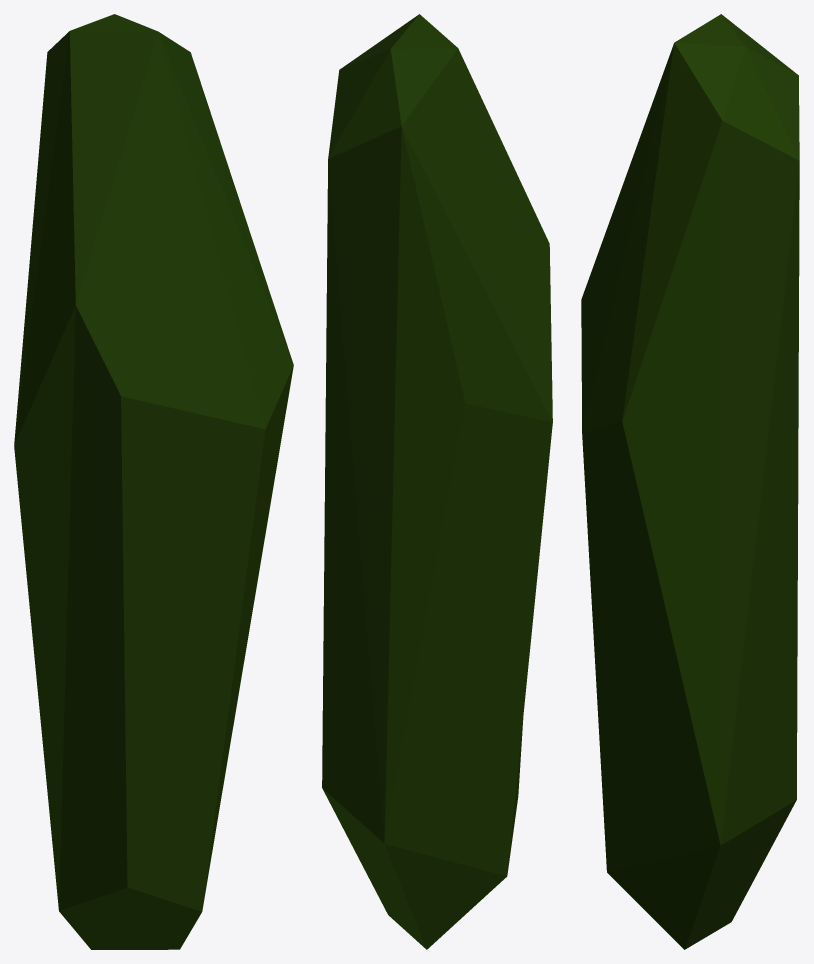
Rendered from Cave_Lair_Vegetation_Swamp_Tree_Foliage_Willow_01.fbx.
3 views of the same model, side by side, from view 1: azimuth 30°, elevation 25°; view 2: azimuth 150°, elevation 25°; view 3: azimuth 270°, elevation 25° (orthographic). The views are drawn at different scales.
Parts seen in each view (by area): view 1: Cave_Lair_Vegetation_Swamp_Tree_Foliage_Willow_01; view 2: Cave_Lair_Vegetation_Swamp_Tree_Foliage_Willow_01; view 3: Cave_Lair_Vegetation_Swamp_Tree_Foliage_Willow_01.
Boxes of the visible parts, left/top/right/bottom form: Cave_Lair_Vegetation_Swamp_Tree_Foliage_Willow_01: left=14, top=14, right=293, bottom=949; Cave_Lair_Vegetation_Swamp_Tree_Foliage_Willow_01: left=322, top=14, right=552, bottom=949; Cave_Lair_Vegetation_Swamp_Tree_Foliage_Willow_01: left=581, top=14, right=799, bottom=949.
Bounding box in the file's own units: 0.9366 × 3.34 × 0.7377.
